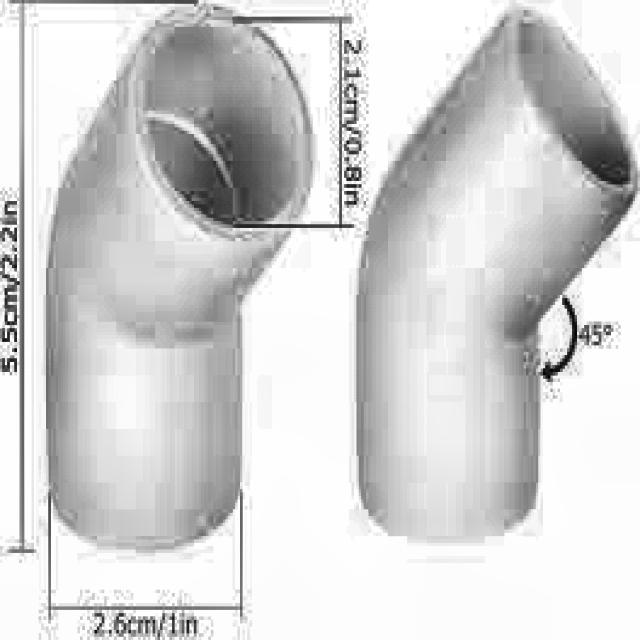ELBOW45: (354, 7, 640, 546), (48, 10, 313, 553)
